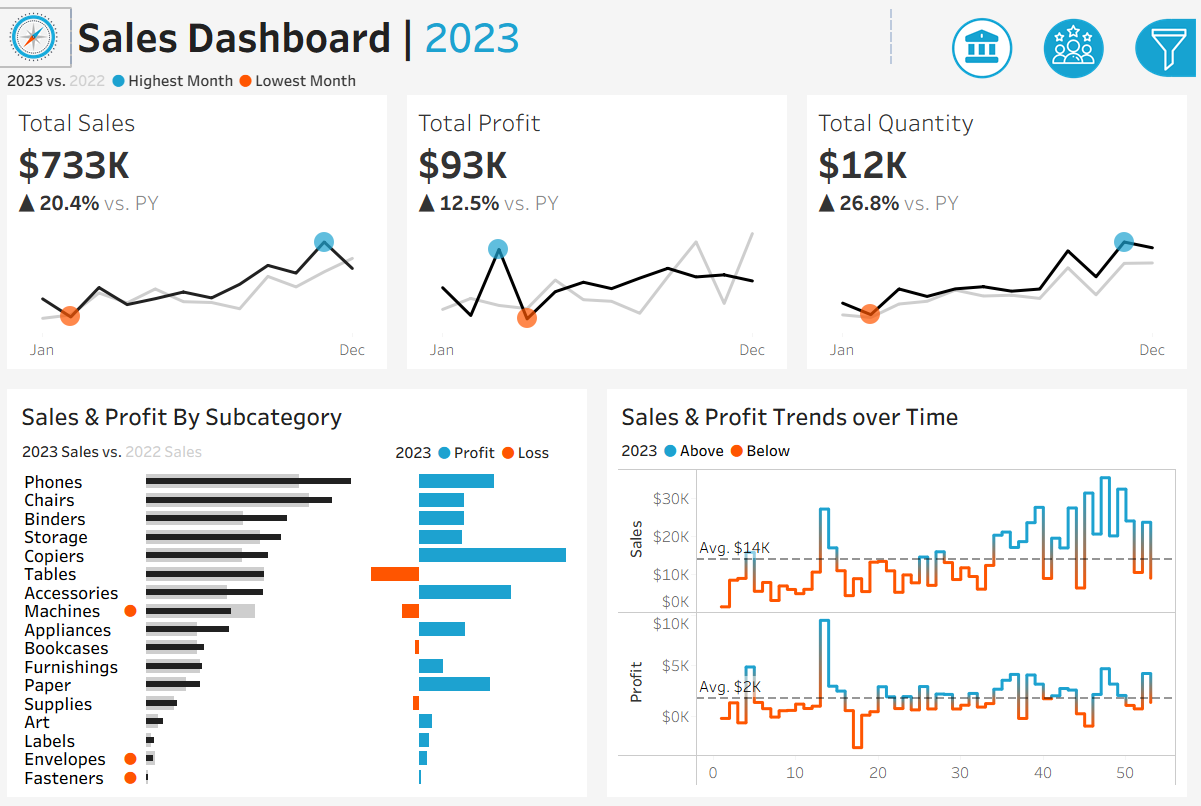

This screenshot's page, from the dashboard's own definition file:
{"tool":"tableau","page":{"name":"Sales Dashboard","canvas":[1200,800],"ordinal":1},"visuals":[{"type":"image","param":"Image/Icon - Logo.png","box":[0,0,73,59]},{"type":"text","box":[73,0,820,59]},{"type":"dashboard-object","box":[940,6,91,70]},{"type":"dashboard-object","box":[1031,6,91,70]},{"type":"blank","box":[952,10,237,86]},{"type":"worksheet","title":"Legend KPI","mark":"Automatic","box":[0,59,1200,29]},{"type":"worksheet","title":"KPI Sales","mark":"Automatic","rows":["Calculation_721701895347843083"],"cols":["Order Date"],"box":[0,88,400,284]},{"type":"worksheet","title":"KPI Profit","mark":"Automatic","rows":["Min/Max Sales (copy)_237846410425847814"],"cols":["Order Date"],"box":[400,88,400,284]},{"type":"worksheet","title":"KPI Quantity","mark":"Automatic","rows":["Min/Max Sales (copy) (copy)_237846410425856007"],"cols":["Order Date"],"box":[800,88,400,284]},{"type":"text","box":[952,96,237,37]},{"type":"parameter","param":"[Parameters].[Parameter 1]","box":[952,133,237,55]},{"type":"text","box":[952,188,237,32]},{"type":"filter","title":"KPI Sales","param":"[federated.1kpxa041aiai2y1cl4pui1t4eju9].[none:Category:nk]","box":[952,220,237,57]},{"type":"filter","title":"KPI Sales","param":"[federated.1kpxa041aiai2y1cl4pui1t4eju9].[none:Sub-Category:nk]","box":[952,277,237,57]},{"type":"blank","box":[952,334,237,60]},{"type":"text","box":[17,389,566,37]},{"type":"text","box":[617,389,566,37]},{"type":"text","box":[952,394,237,32]},{"type":"worksheet","title":"Legend Subcategory","mark":"Automatic","box":[17,426,374,32]},{"type":"text","box":[391,426,192,32]},{"type":"text","box":[617,426,566,28]},{"type":"filter","title":"KPI Sales","param":"[federated.1kpxa041aiai2y1cl4pui1t4eju9].[none:Region:nk]","box":[952,426,237,57]},{"type":"worksheet","title":"Weekly Trends","mark":"Automatic","rows":["Calculation_721701895334993921","CY Sales (copy)_237846410424180736"],"cols":["Order Date"],"box":[617,454,566,329]},{"type":"worksheet","title":"Subcategory Comparison","mark":"Bar","rows":["Sub-Category","Calculation_2435040078806671369"],"cols":["CY Sales (copy)_721701895335804930","Calculation_721701895334993921","CY Sales (copy)_237846410424180736"],"box":[17,458,566,324.9]},{"type":"filter","title":"KPI Sales","param":"[federated.1kpxa041aiai2y1cl4pui1t4eju9].[none:State:nk]","box":[952,483,237,57]},{"type":"filter","title":"KPI Sales","param":"[federated.1kpxa041aiai2y1cl4pui1t4eju9].[none:City:nk]","box":[952,540,237,57]}]}

Visuals, with their boxes in screenshot pixels (x1, y1, x2, y2), scaled from the page's 1200x800 canvas onto the 1201x806 screenshot:
image: (x1=0, y1=0, x2=73, y2=59)
text: (x1=73, y1=0, x2=894, y2=59)
dashboard-object: (x1=941, y1=6, x2=1032, y2=77)
dashboard-object: (x1=1032, y1=6, x2=1123, y2=77)
blank: (x1=953, y1=10, x2=1190, y2=97)
"Legend KPI" worksheet: (x1=0, y1=59, x2=1200, y2=89)
"KPI Sales" worksheet: (x1=0, y1=89, x2=400, y2=375)
"KPI Profit" worksheet: (x1=400, y1=89, x2=801, y2=375)
"KPI Quantity" worksheet: (x1=801, y1=89, x2=1200, y2=375)
text: (x1=953, y1=97, x2=1190, y2=134)
parameter: (x1=953, y1=134, x2=1190, y2=189)
text: (x1=953, y1=189, x2=1190, y2=222)
"KPI Sales" filter: (x1=953, y1=222, x2=1190, y2=279)
"KPI Sales" filter: (x1=953, y1=279, x2=1190, y2=337)
blank: (x1=953, y1=337, x2=1190, y2=397)
text: (x1=17, y1=392, x2=583, y2=429)
text: (x1=618, y1=392, x2=1184, y2=429)
text: (x1=953, y1=397, x2=1190, y2=429)
"Legend Subcategory" worksheet: (x1=17, y1=429, x2=391, y2=461)
text: (x1=391, y1=429, x2=583, y2=461)
text: (x1=618, y1=429, x2=1184, y2=457)
"KPI Sales" filter: (x1=953, y1=429, x2=1190, y2=487)
"Weekly Trends" worksheet: (x1=618, y1=457, x2=1184, y2=789)
"Subcategory Comparison" worksheet (Bar marks): (x1=17, y1=461, x2=583, y2=789)
"KPI Sales" filter: (x1=953, y1=487, x2=1190, y2=544)
"KPI Sales" filter: (x1=953, y1=544, x2=1190, y2=601)
